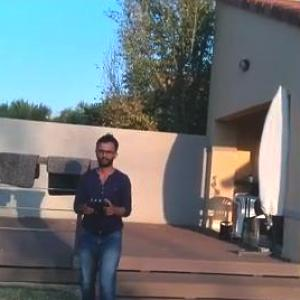follow: (67, 125, 138, 299)
